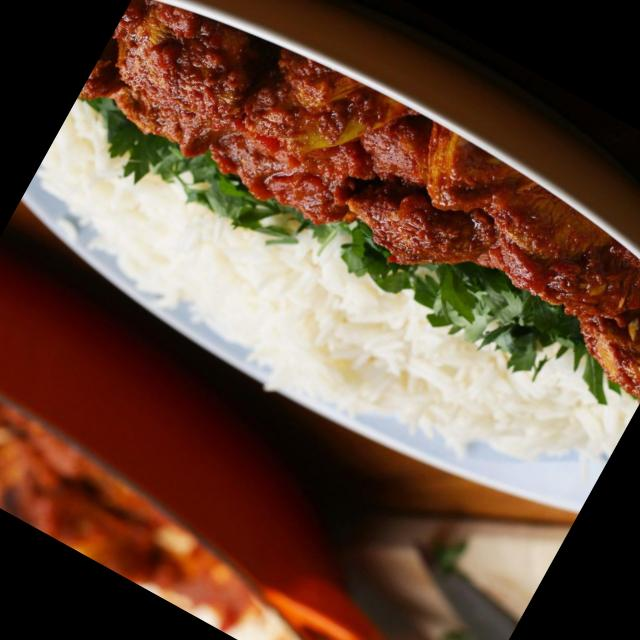chicken: (83, 0, 640, 392)
rice: (0, 90, 638, 548)
